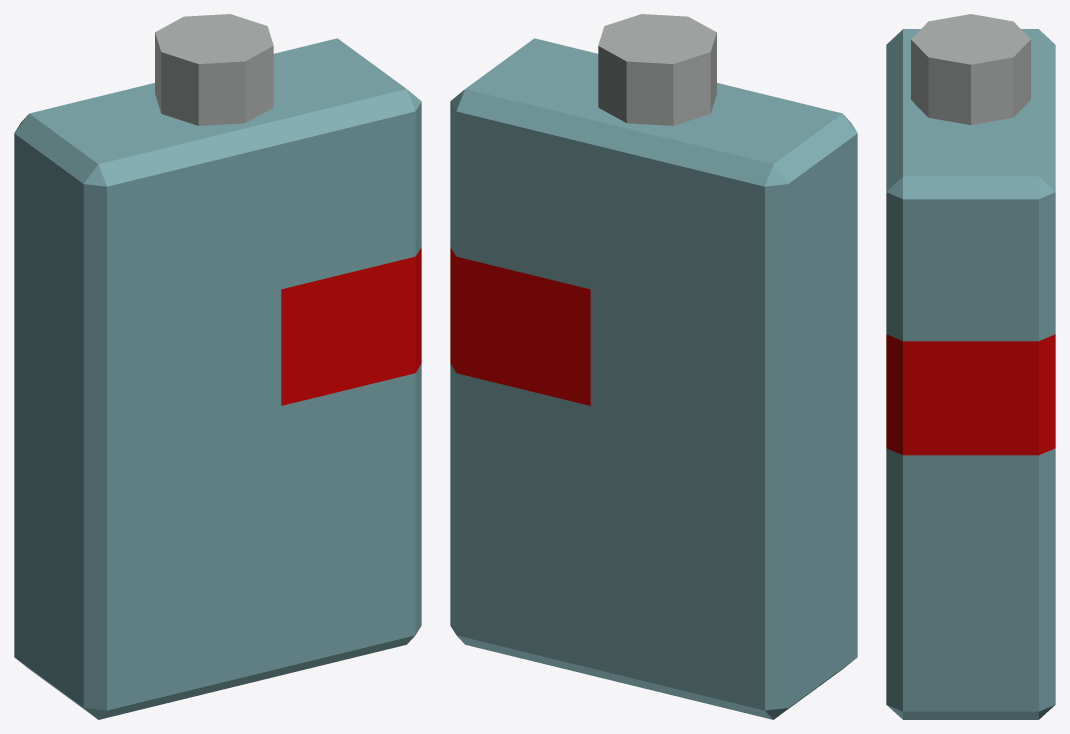
The picture shows the model from 3 angles, left to right: view 1: azimuth 30°, elevation 25°; view 2: azimuth 150°, elevation 25°; view 3: azimuth 270°, elevation 25°; orthographic projection. The views are drawn at different scales.
Visible parts, largest first — view 1: G:\FFXIV-MapTools\exports\x6f2\bg\ex5\01_xkt_x6\fld\x6f2\bgp (×2); view 2: G:\FFXIV-MapTools\exports\x6f2\bg\ex5\01_xkt_x6\fld\x6f2\bgp (×2); view 3: G:\FFXIV-MapTools\exports\x6f2\bg\ex5\01_xkt_x6\fld\x6f2\bgp (×2).
Boxes of the visible parts, x1,y1,x2,y2 form: G:\FFXIV-MapTools\exports\x6f2\bg\ex5\01_xkt_x6\fld\x6f2\bgp (×2): [14, 14, 421, 719]; G:\FFXIV-MapTools\exports\x6f2\bg\ex5\01_xkt_x6\fld\x6f2\bgp (×2): [450, 14, 857, 719]; G:\FFXIV-MapTools\exports\x6f2\bg\ex5\01_xkt_x6\fld\x6f2\bgp (×2): [886, 14, 1055, 719].
Bounding box in the file's own units: 0.2042 × 0.3569 × 0.0906.
